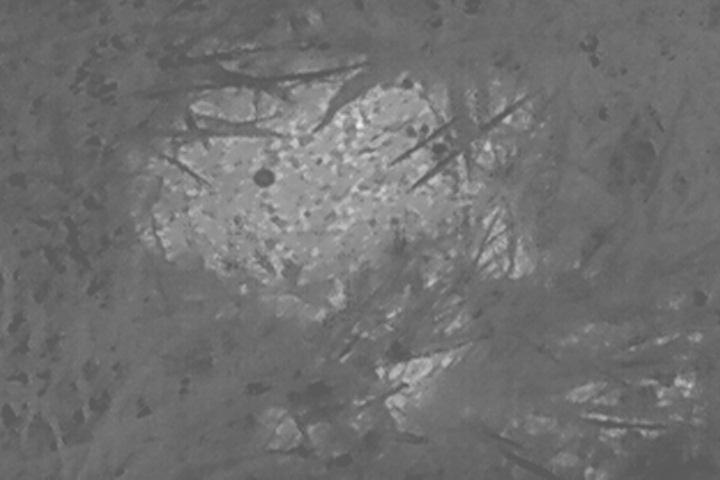landmine: (130, 46, 537, 321)
